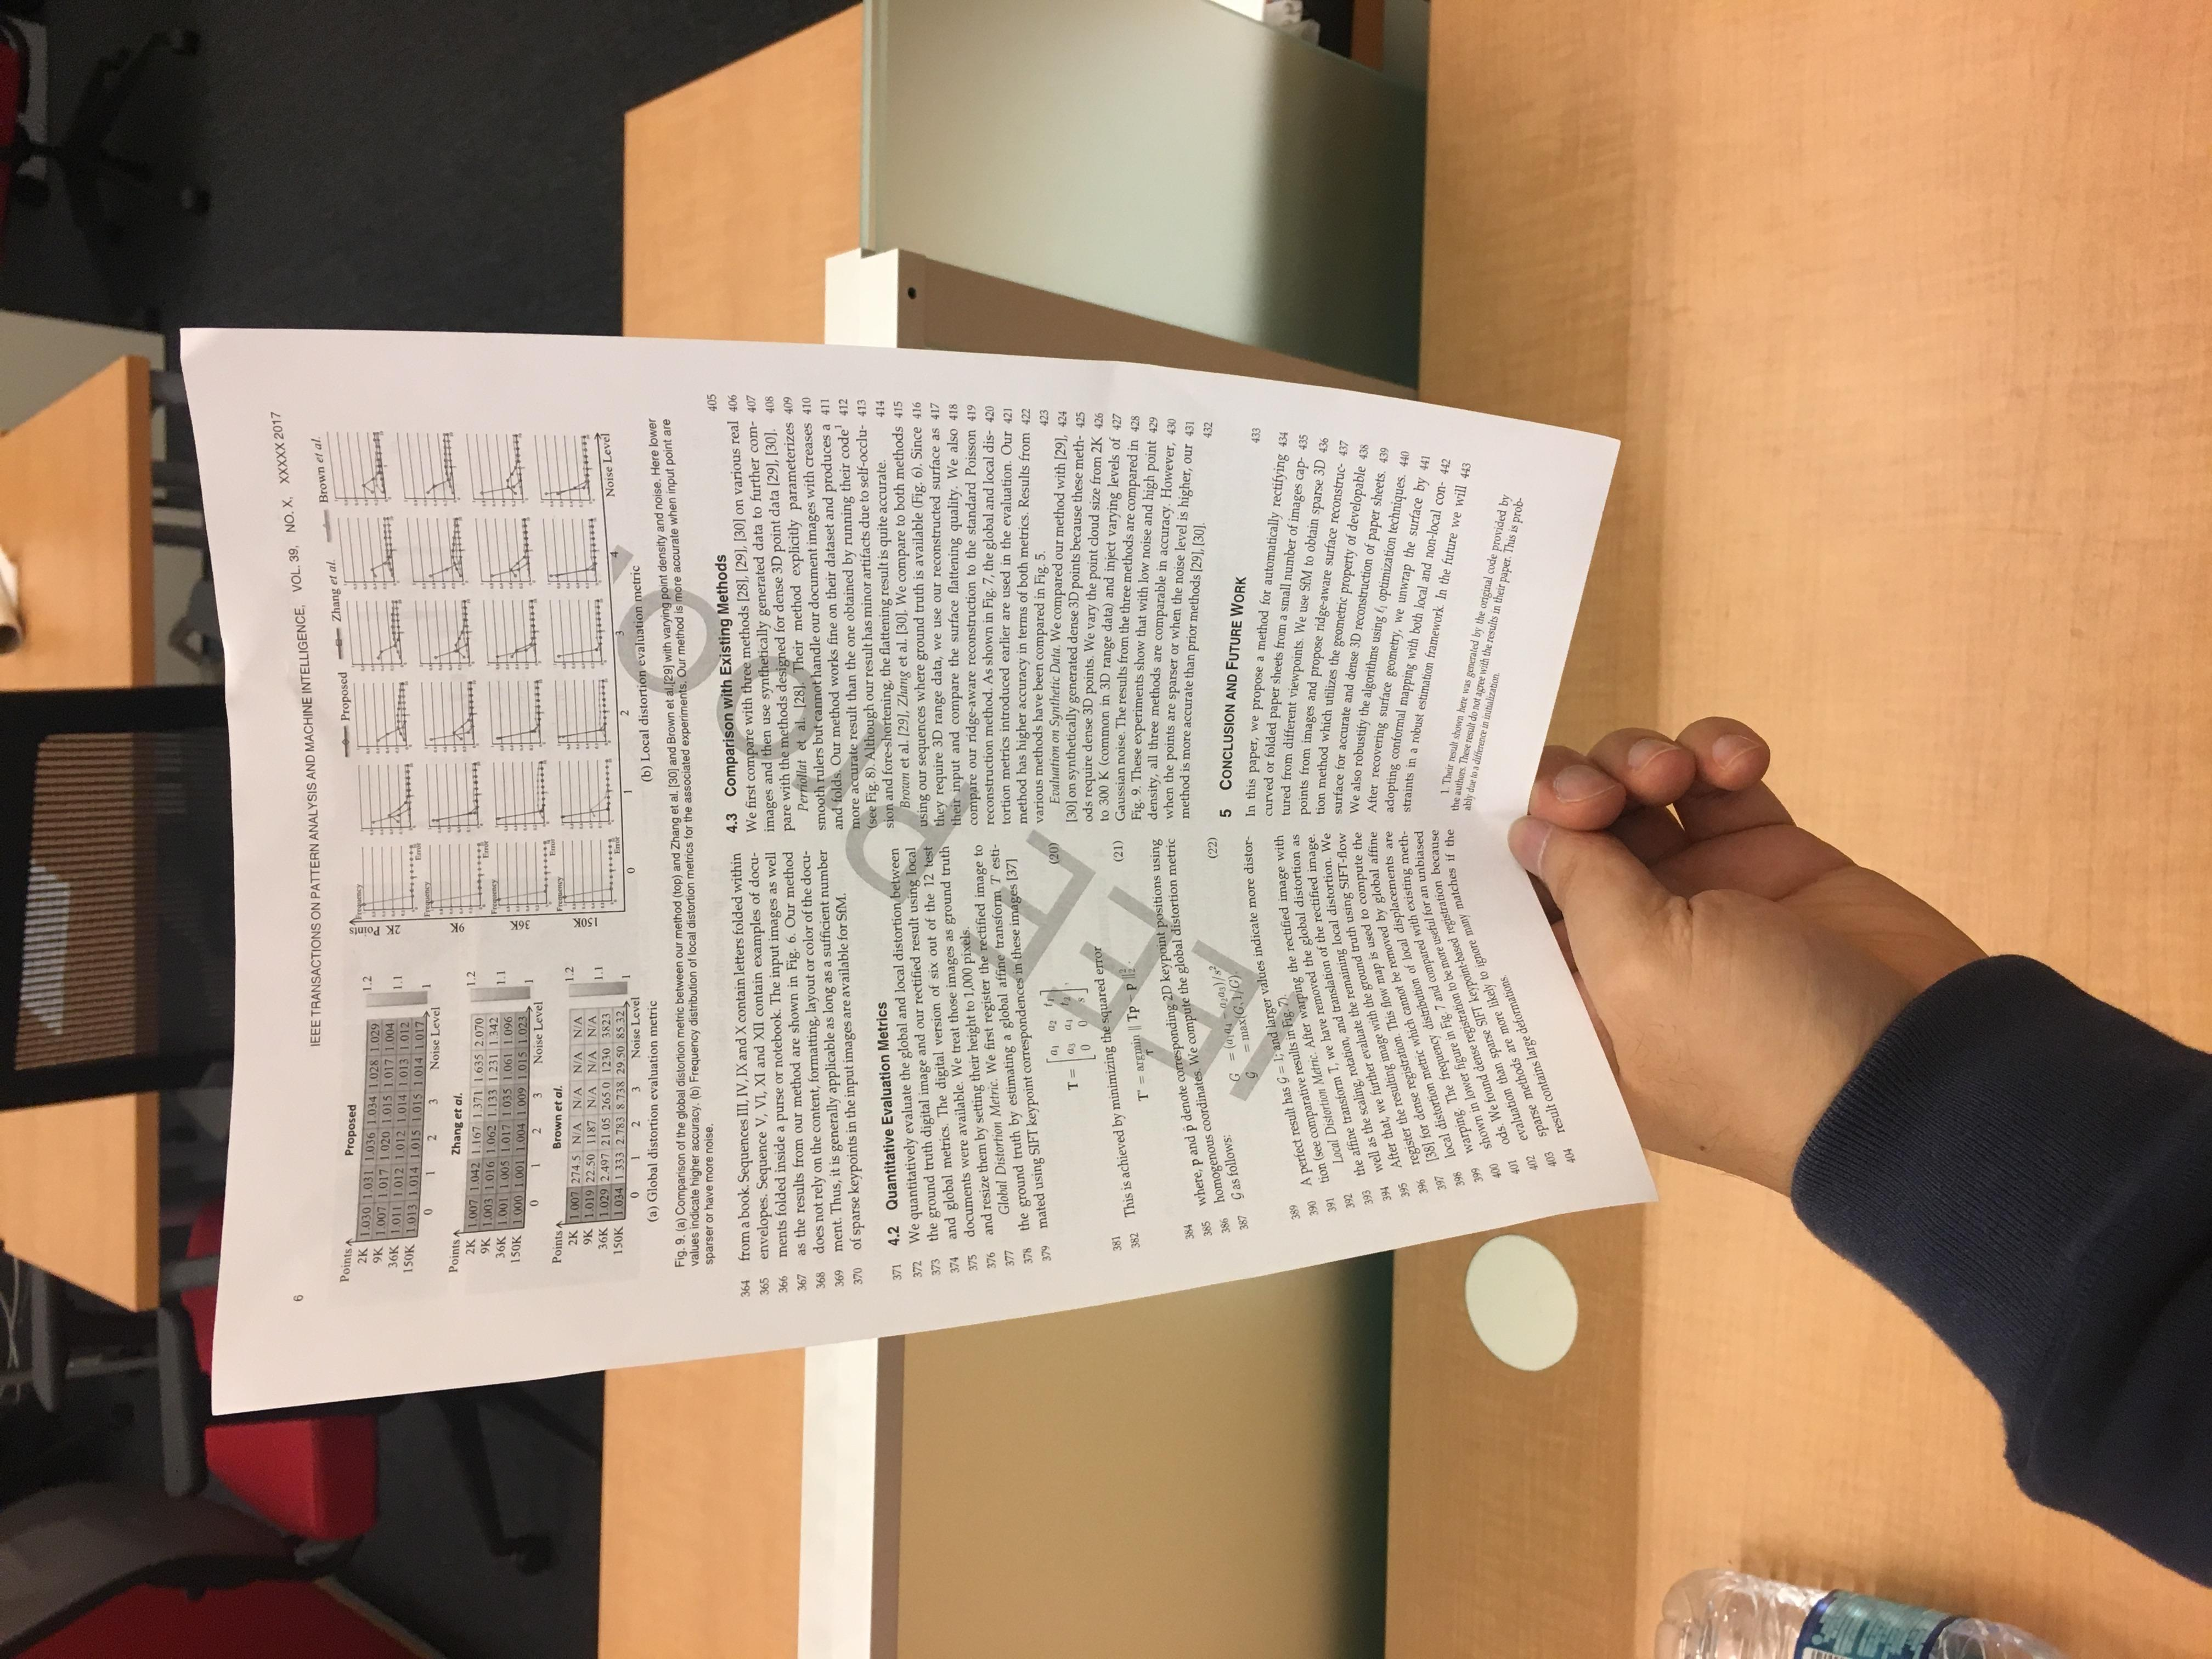paper: (120, 80, 2094, 1351)
